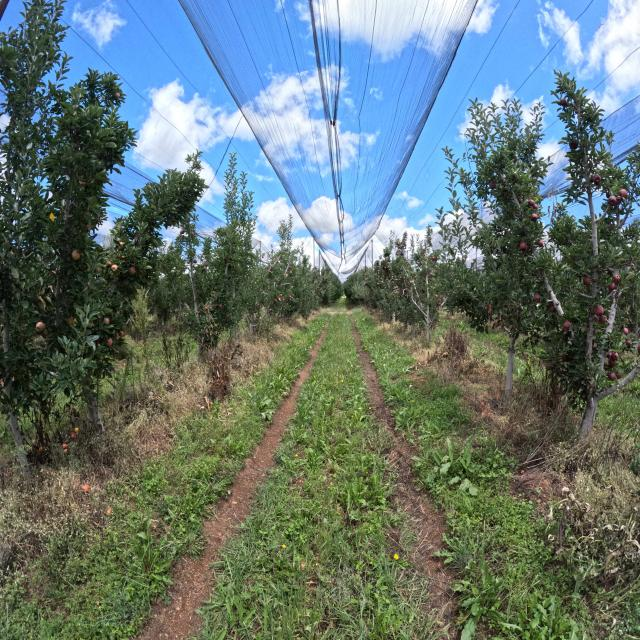-FireBlight-: (492, 315, 507, 329), (515, 305, 522, 316)
